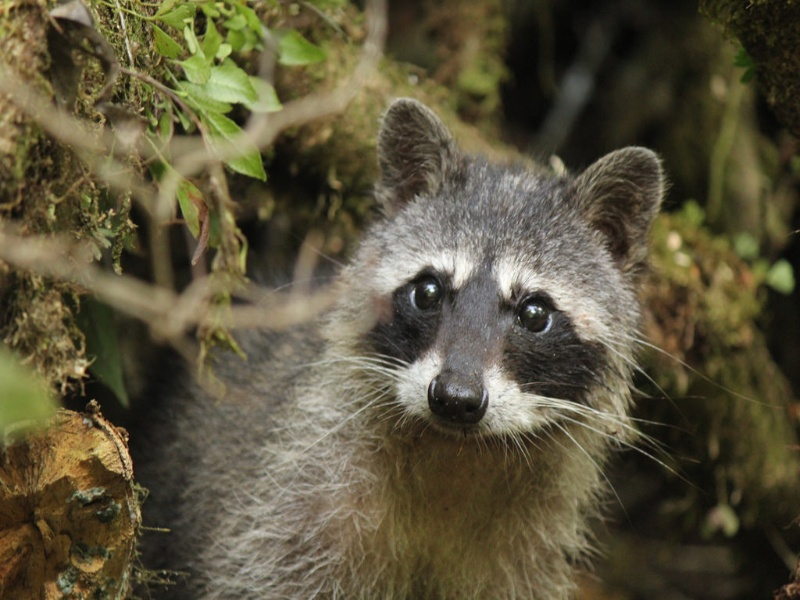raccoon: (146, 99, 672, 595)
